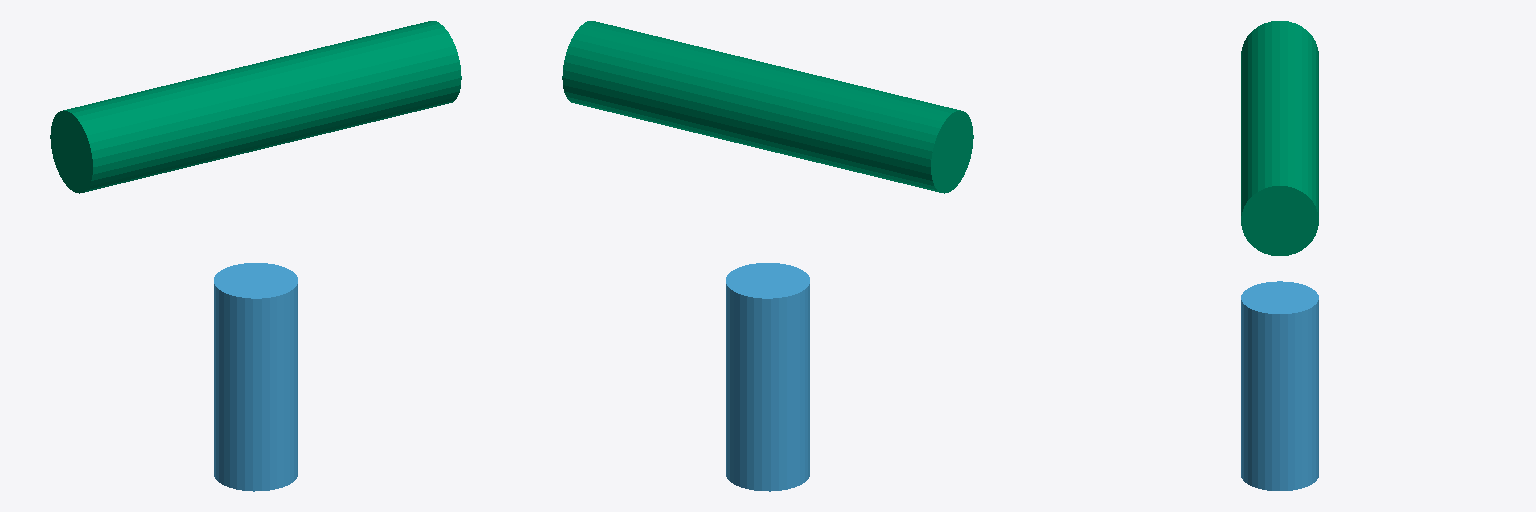
The robot description file, URDF, robot "macro_block":
<?xml version="1.0" ?>
<robot name="macro_block">
  <link name="base"/>
  <link name="upper">
    <visual>
      <geometry>
        <cylinder length="0.25" radius="0.05"/>
      </geometry>
      <material name="gray"/>
    </visual>
  </link>
  <joint name="upper_joint" type="fixed">
    <parent link="base"/>
    <child link="upper"/>
    <origin rpy="0 0 0" xyz="0 0 0.1"/>
  </joint>
  <link name="lower">
    <visual>
      <geometry>
        <cylinder length="0.5" radius="0.05"/>
      </geometry>
      <material name="red"/>
    </visual>
  </link>
  <joint name="lower_joint" type="fixed">
    <parent link="upper"/>
    <child link="lower"/>
    <origin rpy="0 1.5707963267948966 0" xyz="0 0 0.35"/>
  </joint>
</robot>

--- What the picture shows (computed from the rendered views, not written in the file) ---
3 views of the same robot in one strip: view 1: azimuth 30°, elevation 25°; view 2: azimuth 150°, elevation 25°; view 3: azimuth 270°, elevation 25° (orthographic).
Model macro_block with 3 links and 2 joints (2 fixed), rooted at base, posed every joint at zero.
Links seen in each view (by area): view 1: lower, upper; view 2: lower, upper; view 3: lower, upper.
Boxes of the visible links, x1,y1,x2,y2 form: lower: (50, 21, 461, 193); upper: (214, 263, 297, 491); lower: (562, 21, 973, 193); upper: (726, 263, 809, 491); lower: (1241, 21, 1318, 255); upper: (1241, 281, 1318, 490).
Size in the robot's own frame: 0.5 by 0.1 by 0.525 metres.
Geometry: primitives only (box / cylinder / sphere), no mesh files.
